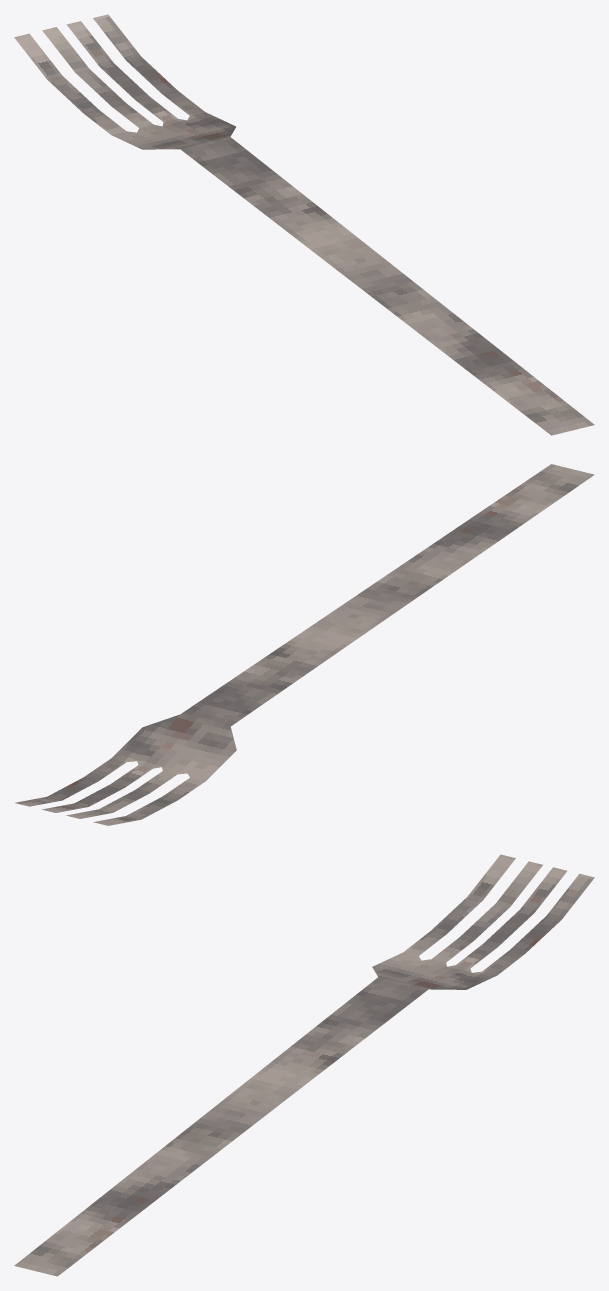
Rendered from fork.glb.
The picture shows the model from 3 angles, top to bottom: view 1: azimuth 30°, elevation 25°; view 2: azimuth 150°, elevation 25°; view 3: azimuth 330°, elevation 25°; orthographic projection.
Parts seen in each view (by area): view 1: fork; view 2: fork; view 3: fork.
Part boxes in pixels (x1,y1,x2,y2): fork: (14,14,594,435); fork: (15,464,594,825); fork: (14,854,594,1276).
Size of the model in its own units: 0.1161 by 0.0354 by 1.09.
Materials: 1 (1 with a texture image).
